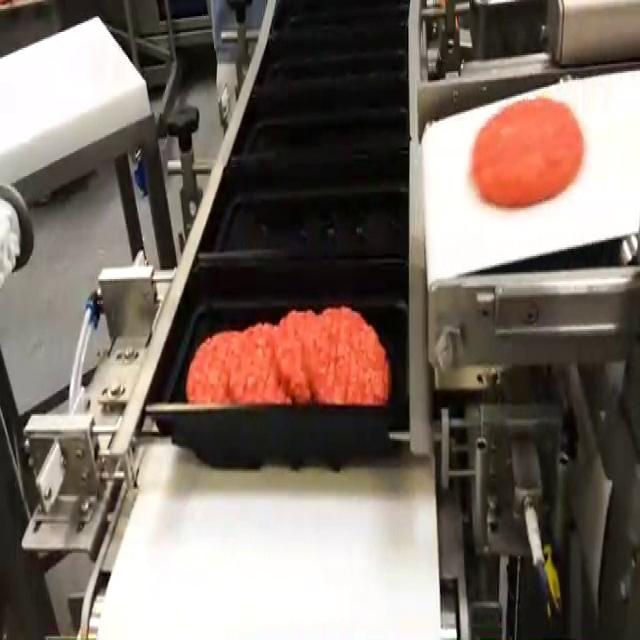4-hamburguer: (186, 306, 390, 405)
